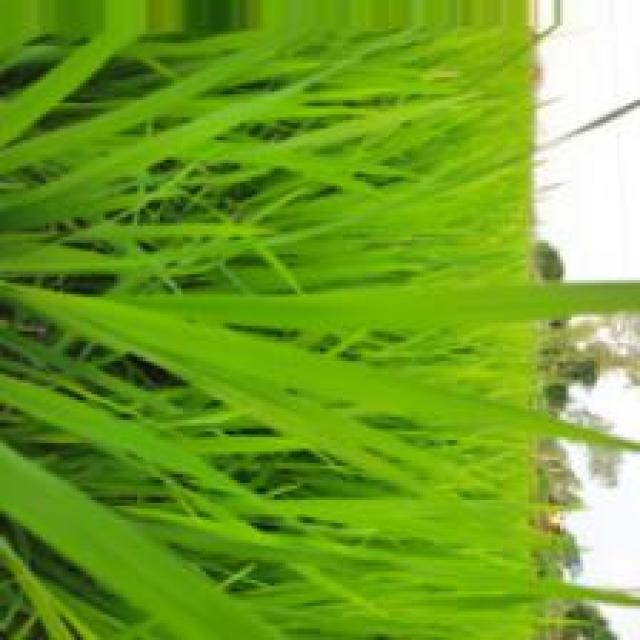HealthyLeaf: (209, 330, 408, 408), (354, 292, 445, 328), (74, 405, 145, 448)
